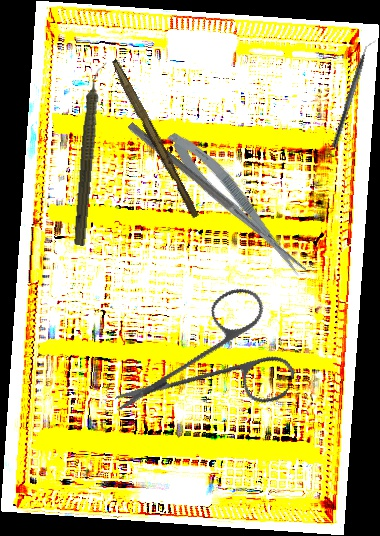Chopper: (331, 36, 378, 151)
Handpiece: (70, 60, 109, 247)
Iris Scissors: (111, 258, 318, 467)
Micro Scissor: (161, 123, 312, 286)
Scalpel Handle: (106, 58, 203, 220)
Surgical Spoon: (126, 121, 281, 250)
